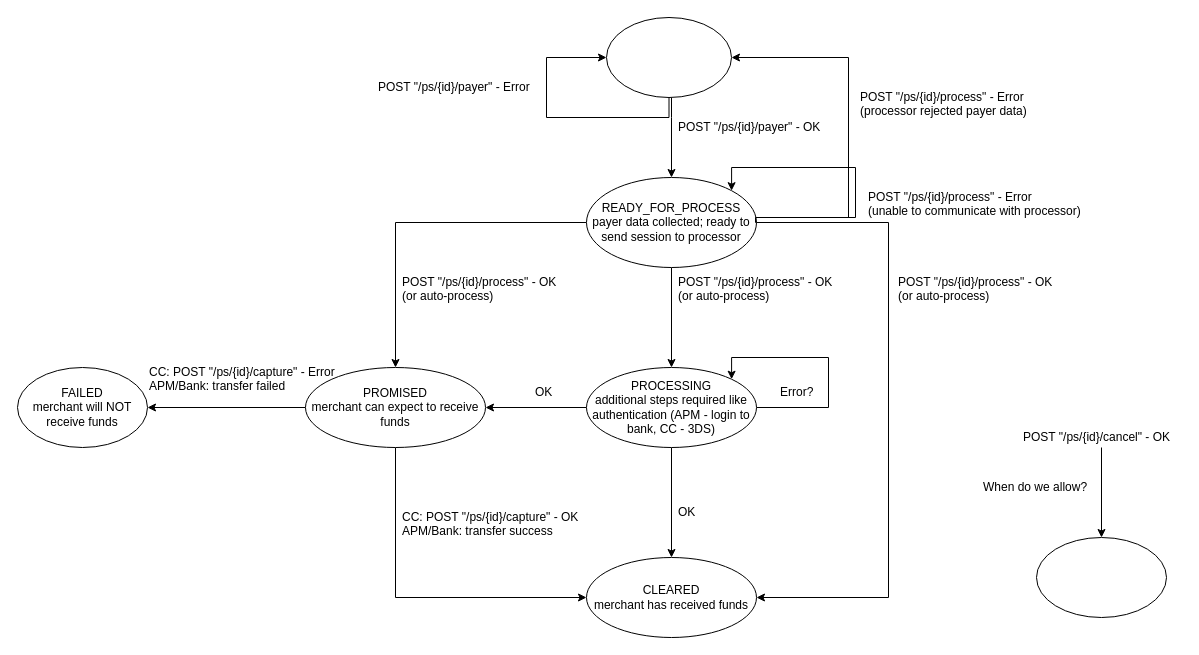
Image size: 1199x655. Some labels were removed from this diagram. Each missing label, with the centre of its shape:
"CANCELLED app cancelled session" goes at [1101,577].
"INITIALIZED session created; payer data required" goes at [669,57].
